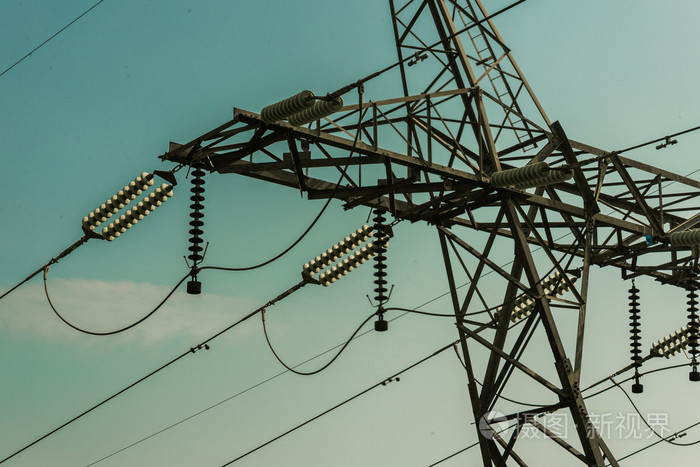insulator: (83, 169, 172, 240), (301, 228, 390, 286), (505, 272, 579, 321), (265, 91, 346, 130), (492, 161, 574, 190), (369, 208, 392, 302), (188, 171, 208, 263), (627, 285, 647, 368), (683, 291, 700, 372), (652, 330, 686, 358)
